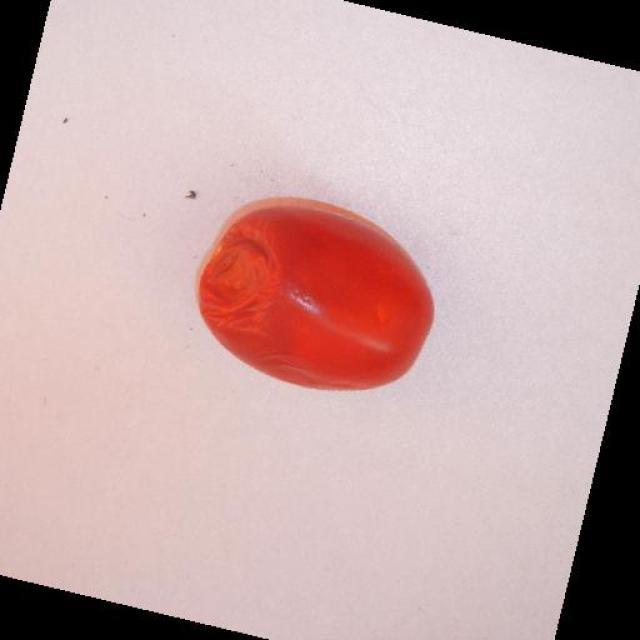Stale_tomato: (198, 213, 392, 379)
